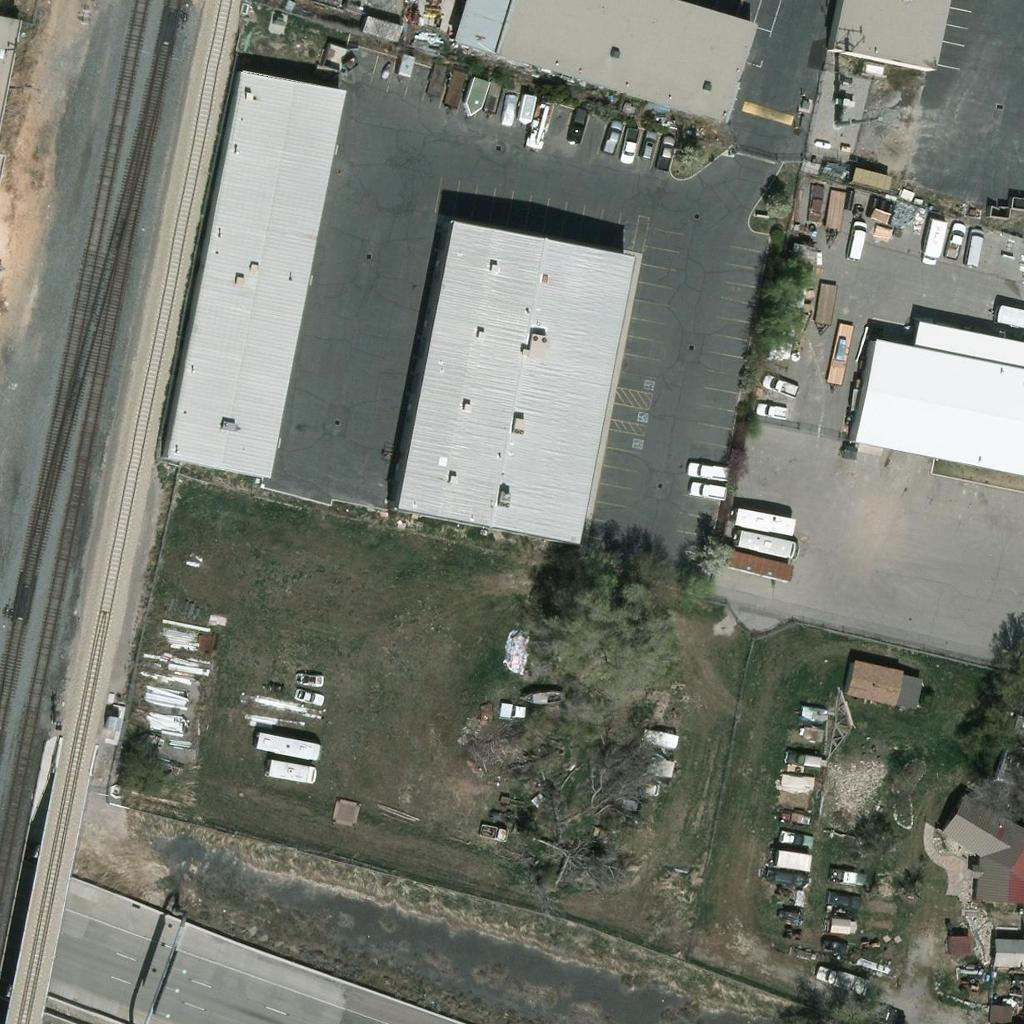car: (559, 109, 593, 143), (595, 119, 629, 153), (632, 128, 666, 162), (611, 129, 645, 163), (650, 133, 684, 167), (798, 185, 832, 219), (840, 218, 874, 252), (939, 220, 973, 254), (959, 226, 993, 260), (760, 365, 794, 399), (753, 393, 787, 427), (687, 453, 721, 487), (688, 473, 722, 507), (289, 678, 323, 712), (787, 742, 821, 776), (780, 823, 814, 857), (826, 882, 860, 916), (818, 928, 852, 962), (814, 959, 848, 993)
